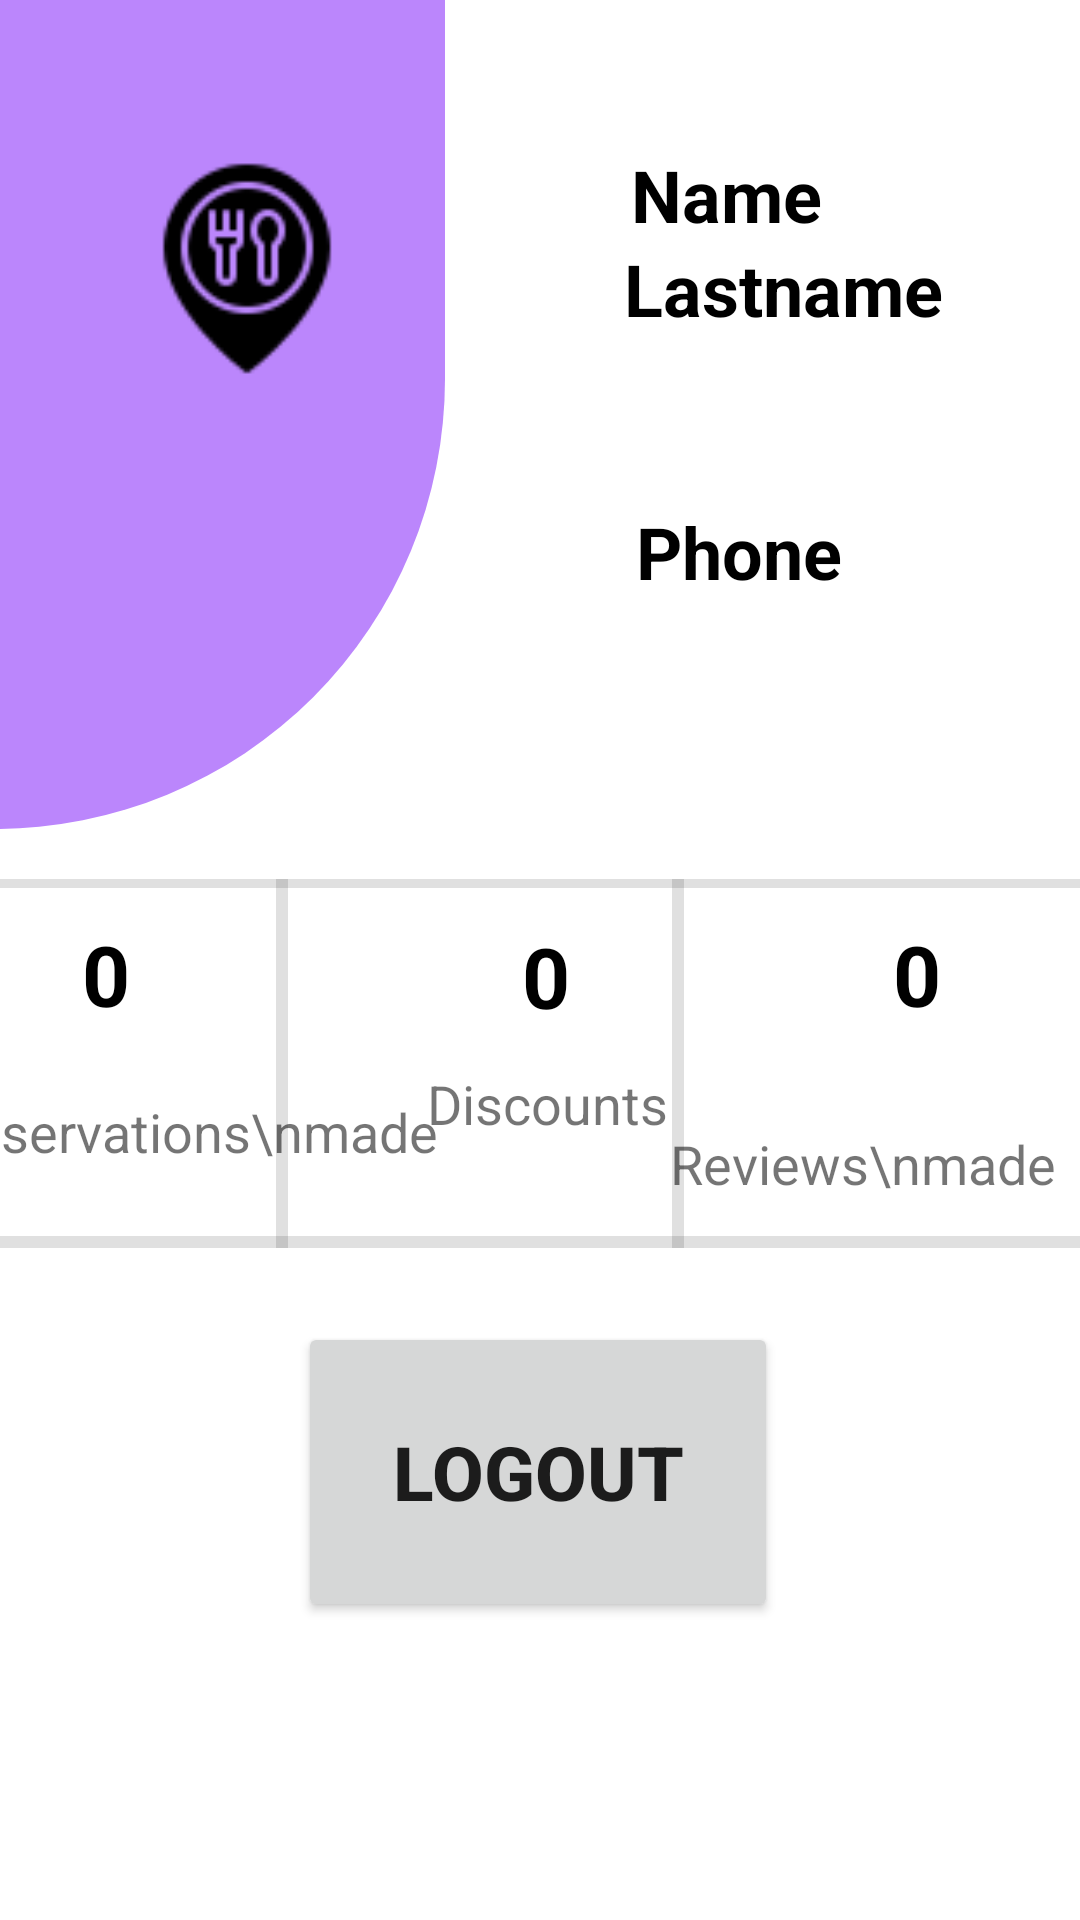

Icon click points for this 1080×1920 phone screenshot, format (x,y):
restaurant: (247,268)
